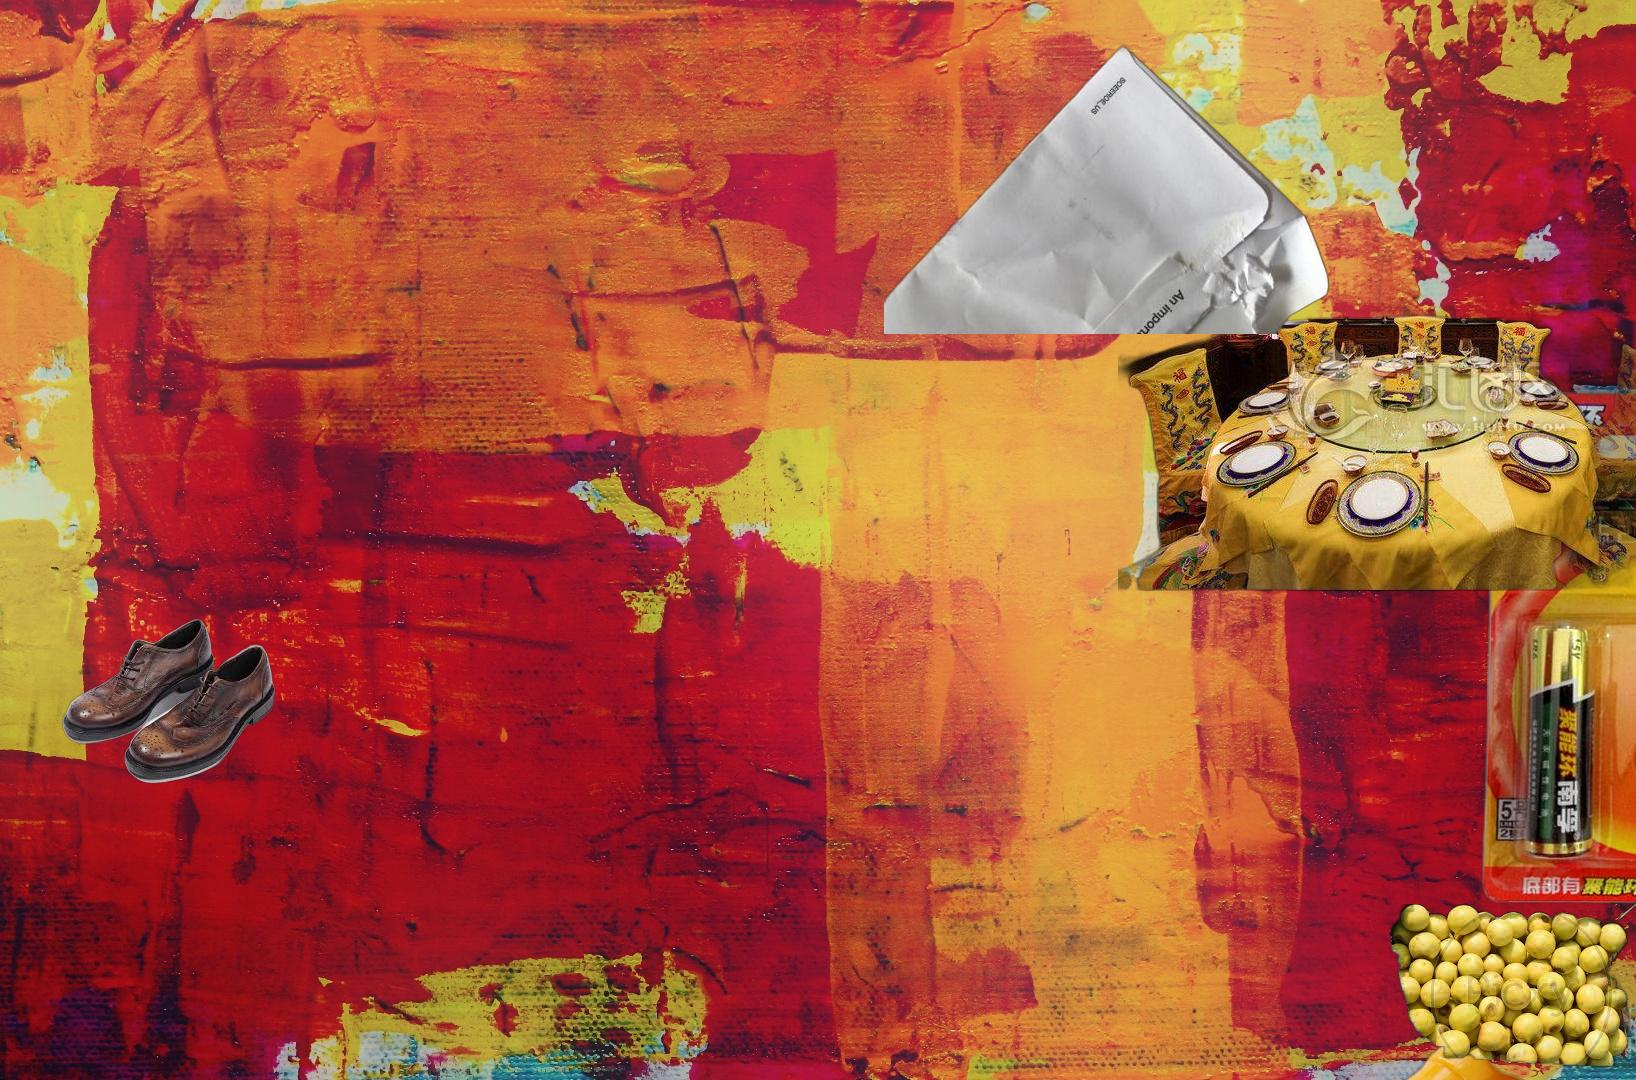battery: (1475, 362, 1636, 953)
biological: (1118, 294, 1636, 610), (1384, 904, 1636, 1080)
paper: (884, 42, 1334, 334)
penholder: (1260, 832, 1636, 1080)
shoes: (59, 616, 288, 786)
trashbox-cardboard: (1569, 856, 1636, 939)
